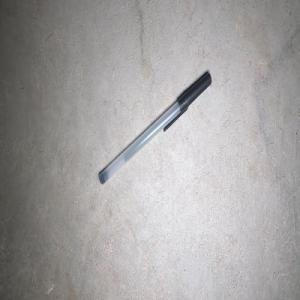Pen: (99, 72, 211, 184)
